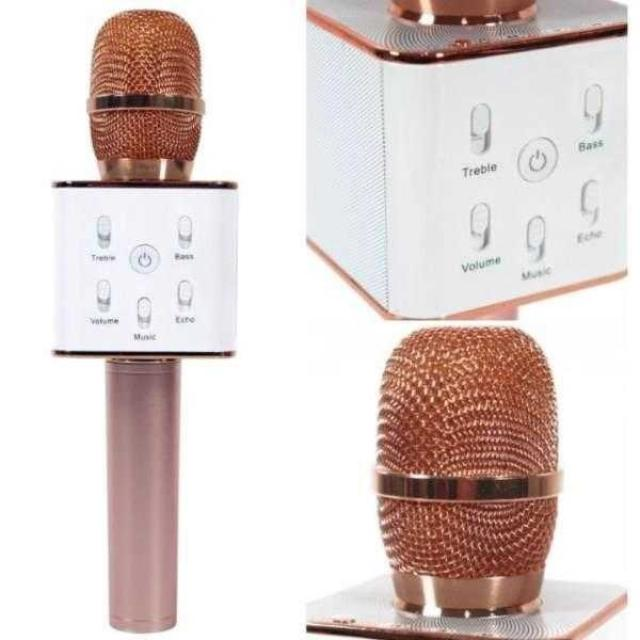microphone: (62, 17, 234, 629), (377, 324, 559, 620)
